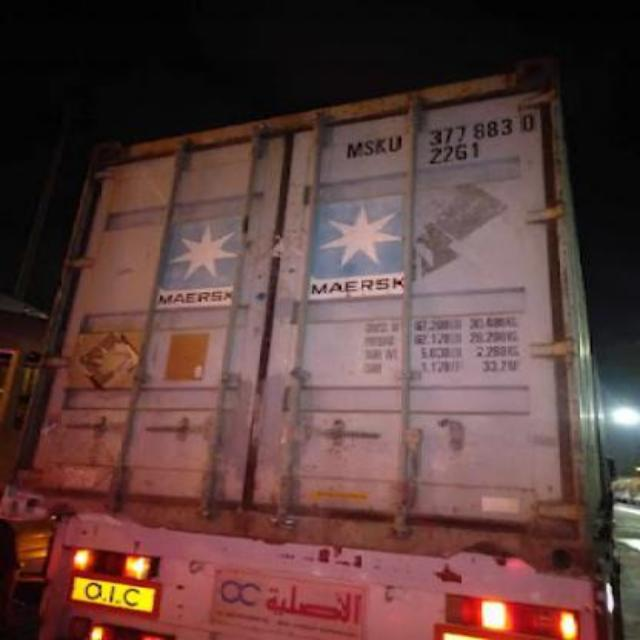0: (520, 112, 536, 134)
3: (498, 117, 516, 137), (428, 127, 444, 145)
7: (440, 126, 456, 142), (454, 124, 468, 142)
8: (472, 121, 488, 141), (486, 118, 499, 138)
K: (374, 134, 390, 158)
M: (344, 140, 364, 160)
S: (362, 138, 376, 158)
U: (388, 134, 402, 154)
